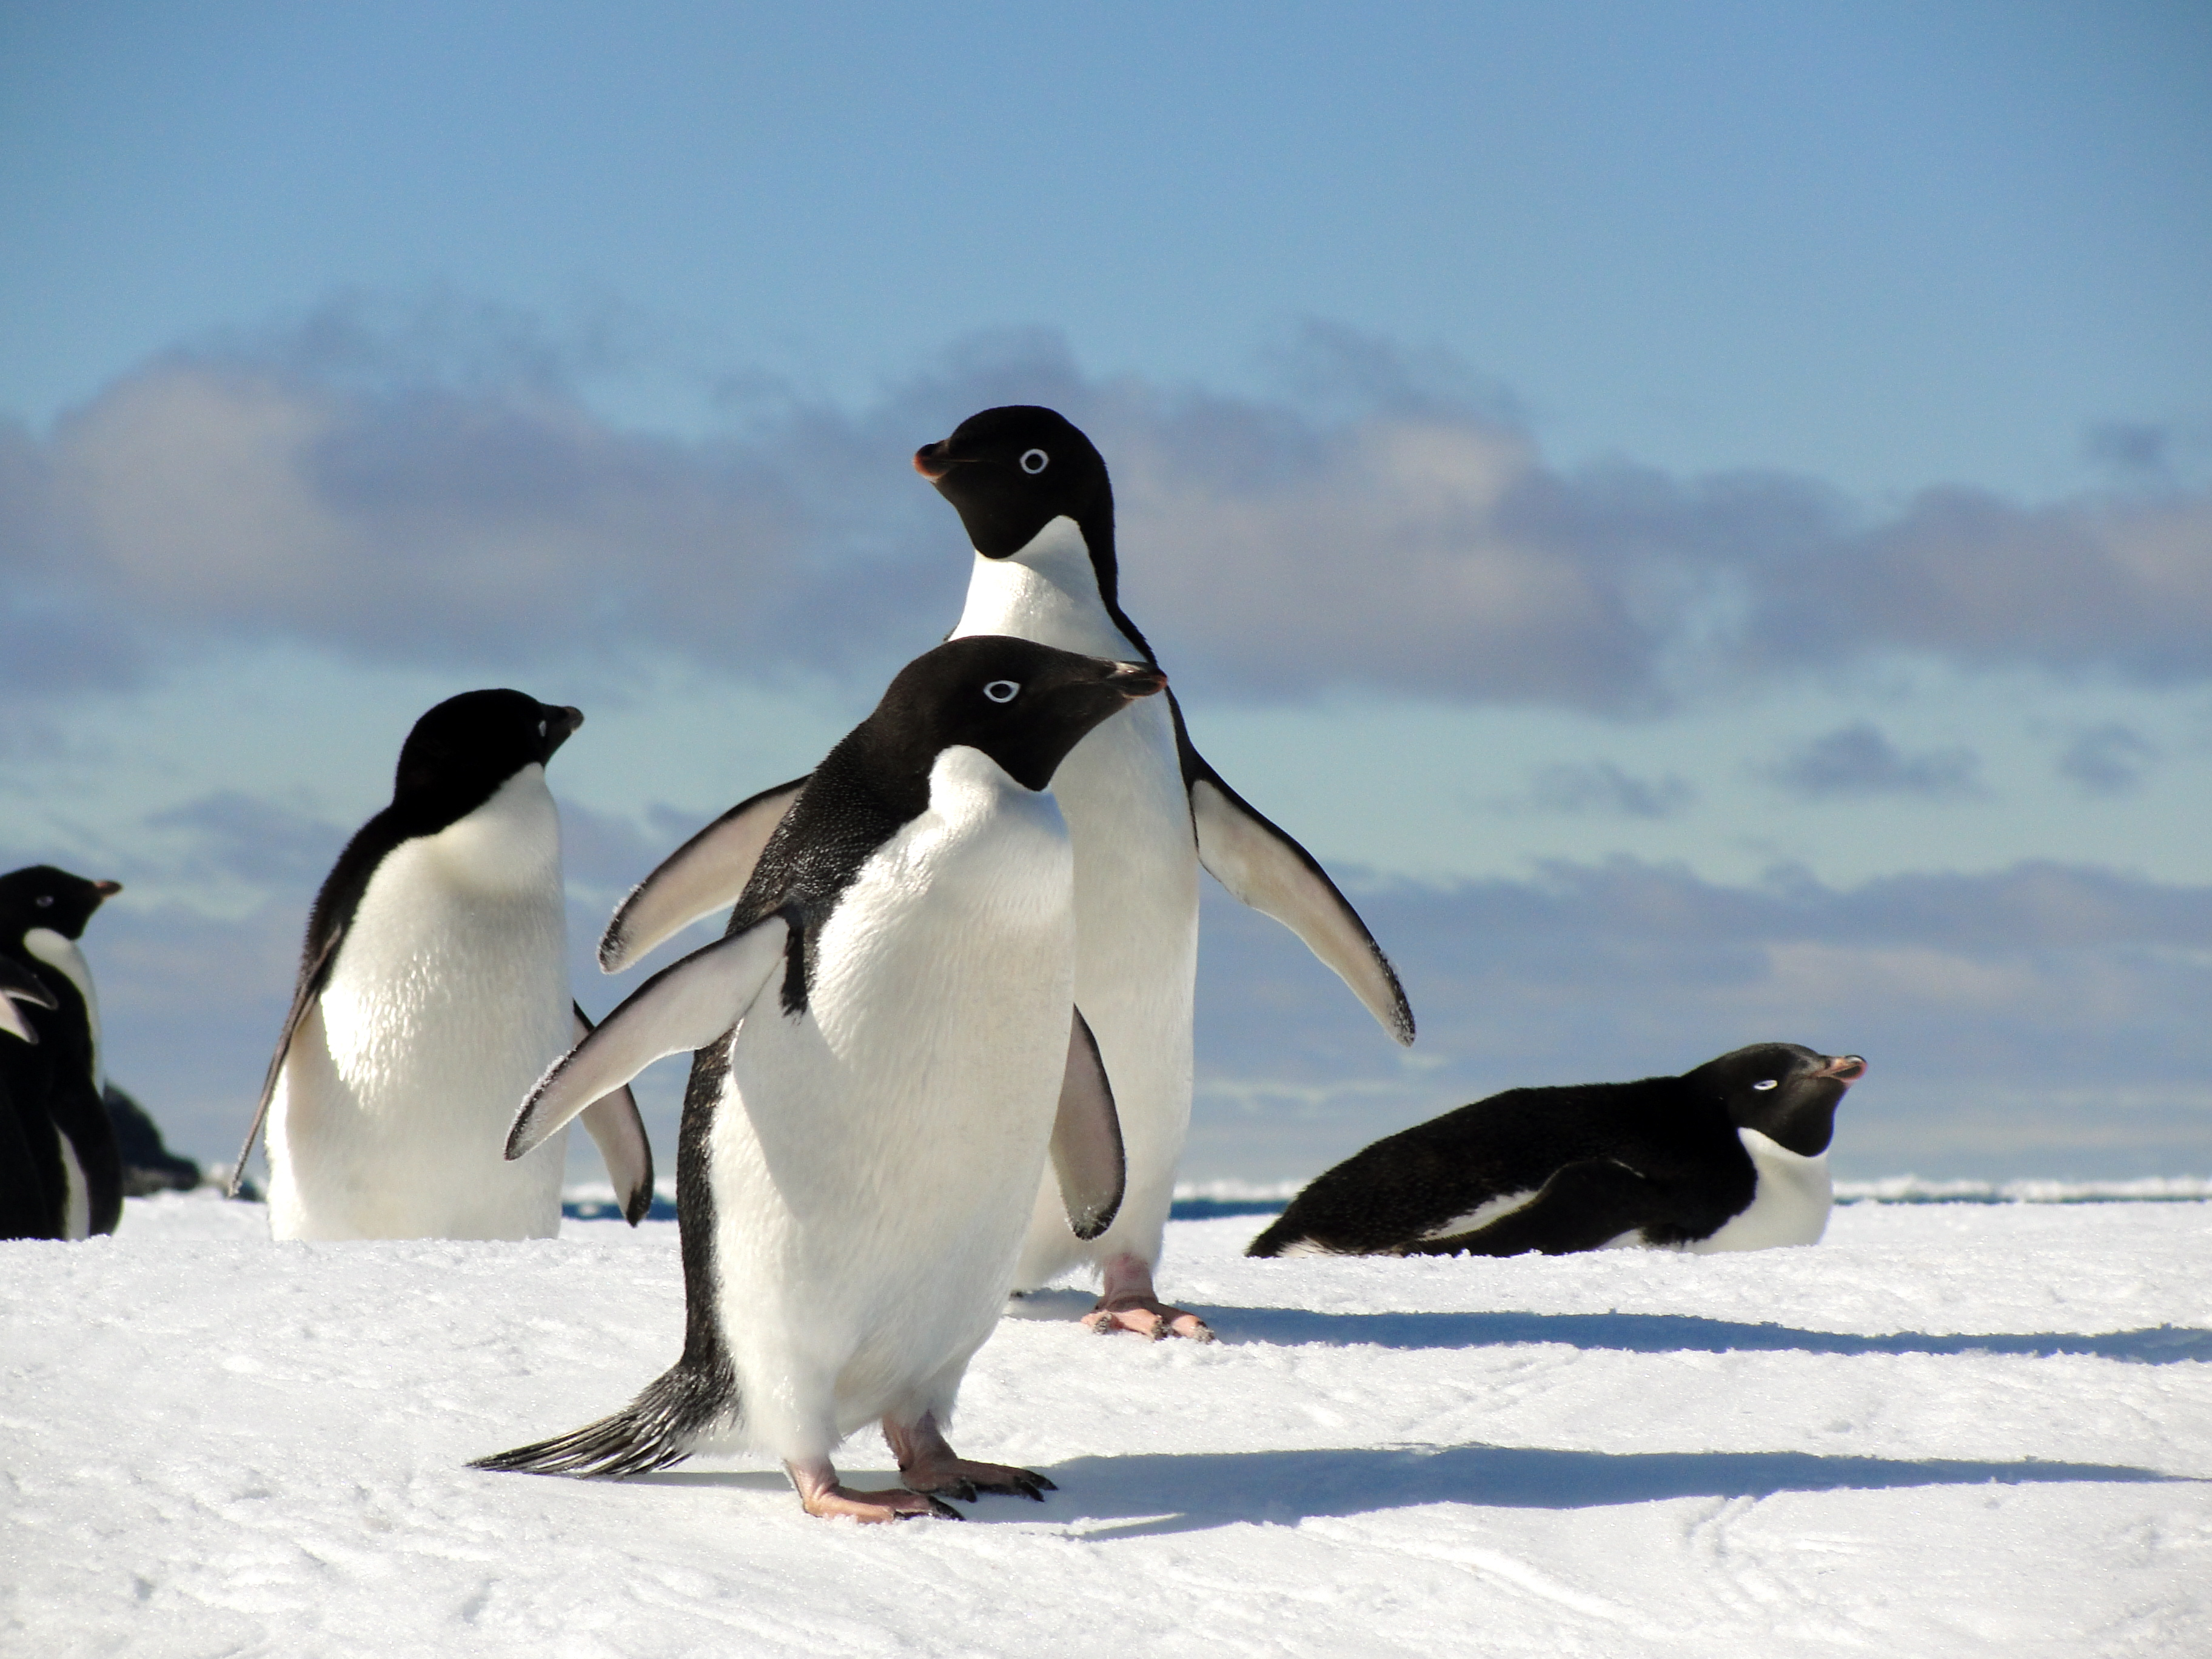penguin: (526, 655, 1193, 1527)
